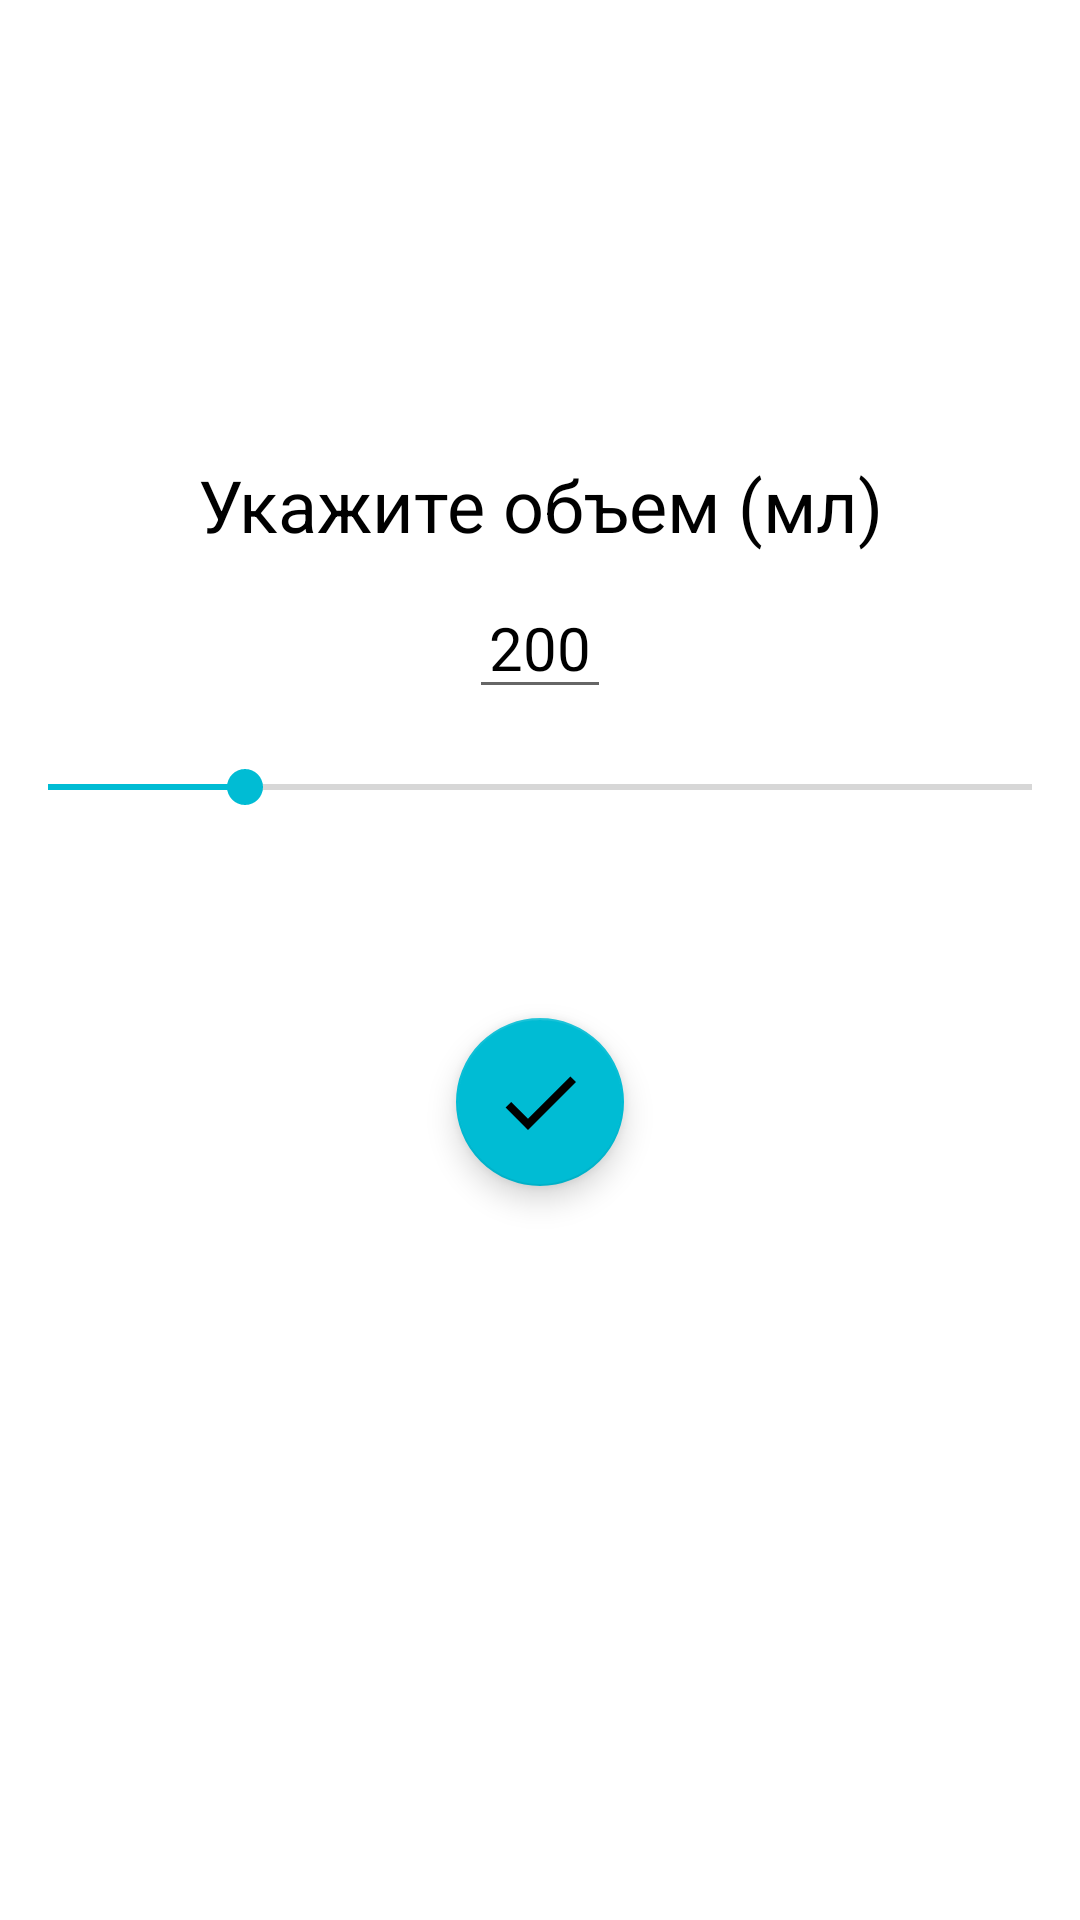

Icons on this 1080 × 1920 Android screen, each with the point to tap as (x,y):
save: (540,1102)
